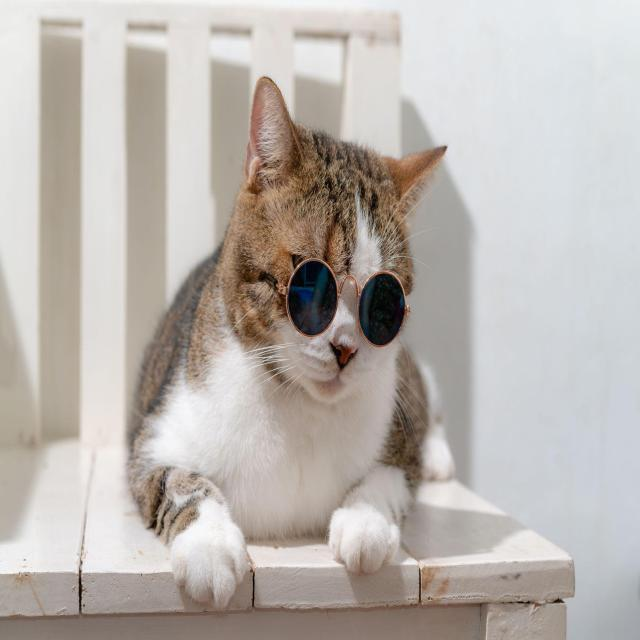Cat: (226, 56, 451, 410)
